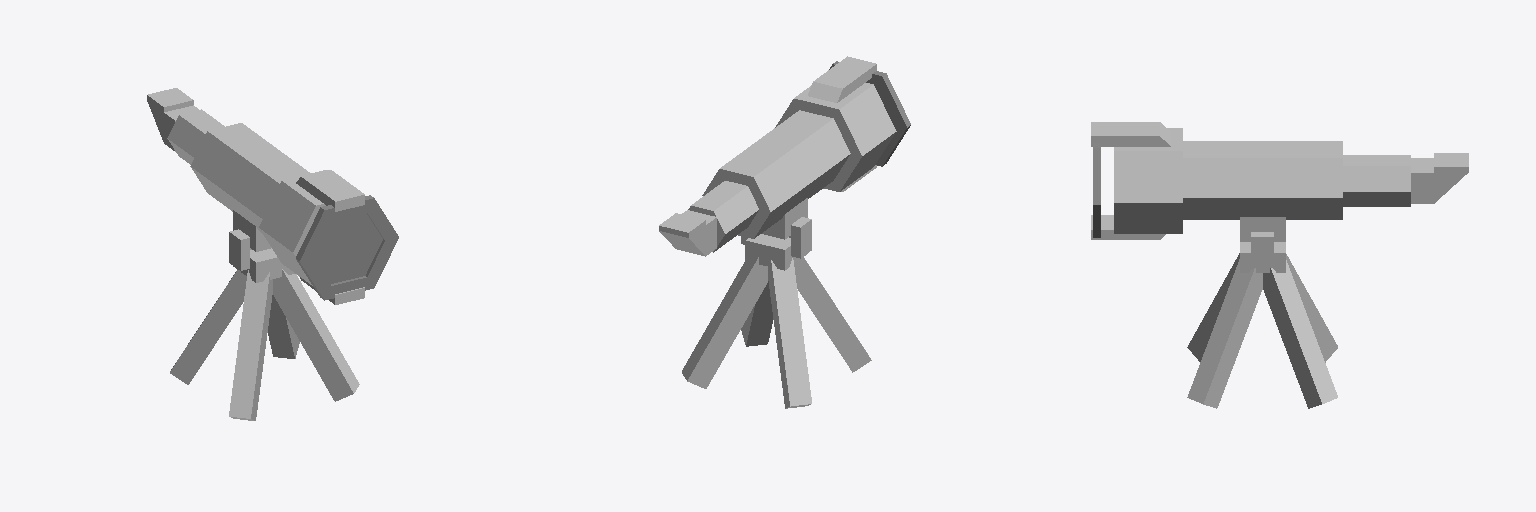
Rendered from celestial_observer.obj.
3 views of the same model, side by side, from view 1: azimuth 30°, elevation 25°; view 2: azimuth 150°, elevation 25°; view 3: azimuth 270°, elevation 25° (orthographic).
Visible parts, largest first — view 1: body, legs, thaumometer_solid, thaumometer_transparent, pivot; view 2: body, legs, pivot, thaumometer_solid; view 3: body, legs, pivot, thaumometer_solid.
Part boxes in pixels (left/top/right/bottom): body: left=147, top=88, right=364, bottom=304; legs: left=170, top=266, right=359, bottom=420; thaumometer_solid: left=296, top=195, right=398, bottom=300; thaumometer_transparent: left=314, top=213, right=382, bottom=283; pivot: left=229, top=229, right=283, bottom=272; body: left=659, top=56, right=896, bottom=256; legs: left=682, top=251, right=871, bottom=408; pivot: left=741, top=217, right=811, bottom=259; thaumometer_solid: left=829, top=61, right=910, bottom=166; body: left=1091, top=122, right=1468, bottom=241; legs: left=1187, top=253, right=1337, bottom=408; pivot: left=1240, top=232, right=1285, bottom=267; thaumometer_solid: left=1093, top=143, right=1100, bottom=237.
Size of the model in its own units: 0.8278 by 1.53 by 2.06.